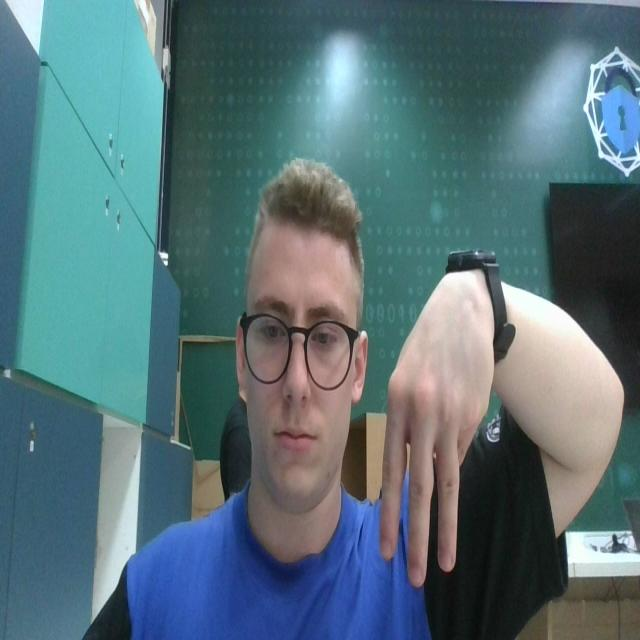M: (379, 283, 496, 586)
